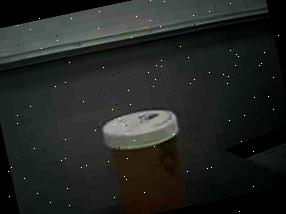Bottle B: (92, 97, 207, 214)
